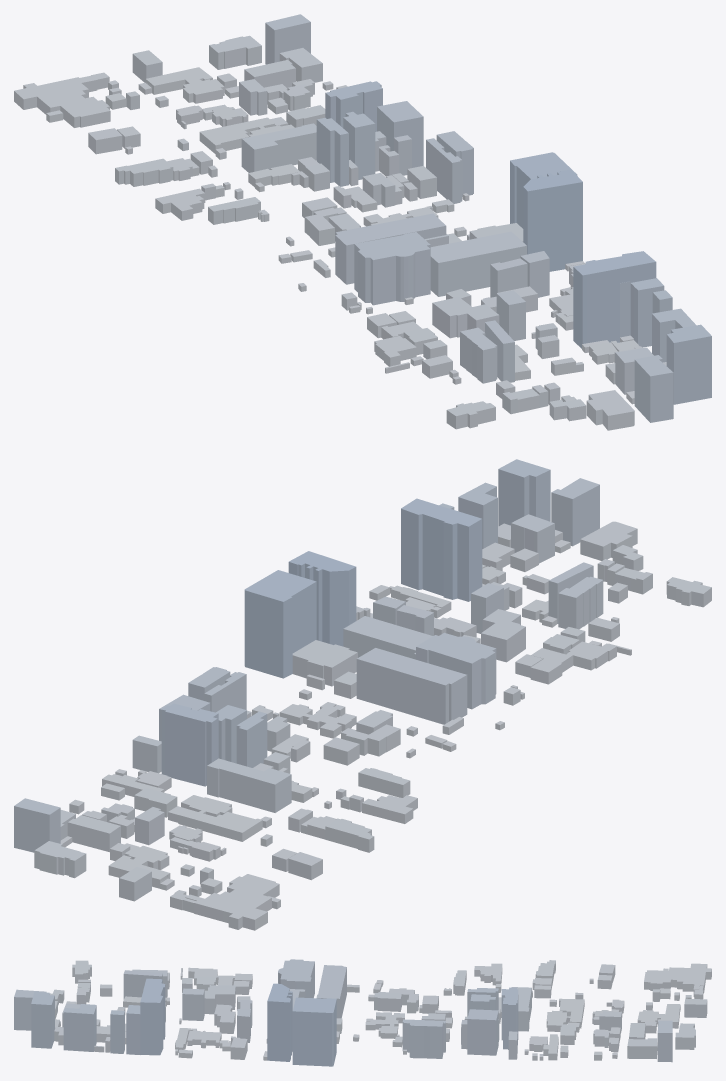
3 renders of one model, top to bottom at view 1: azimuth 30°, elevation 25°; view 2: azimuth 150°, elevation 25°; view 3: azimuth 270°, elevation 25°, orthographic. The views are drawn at different scales.
Size of the model in its own units: 169 by 48.41 by 514.
